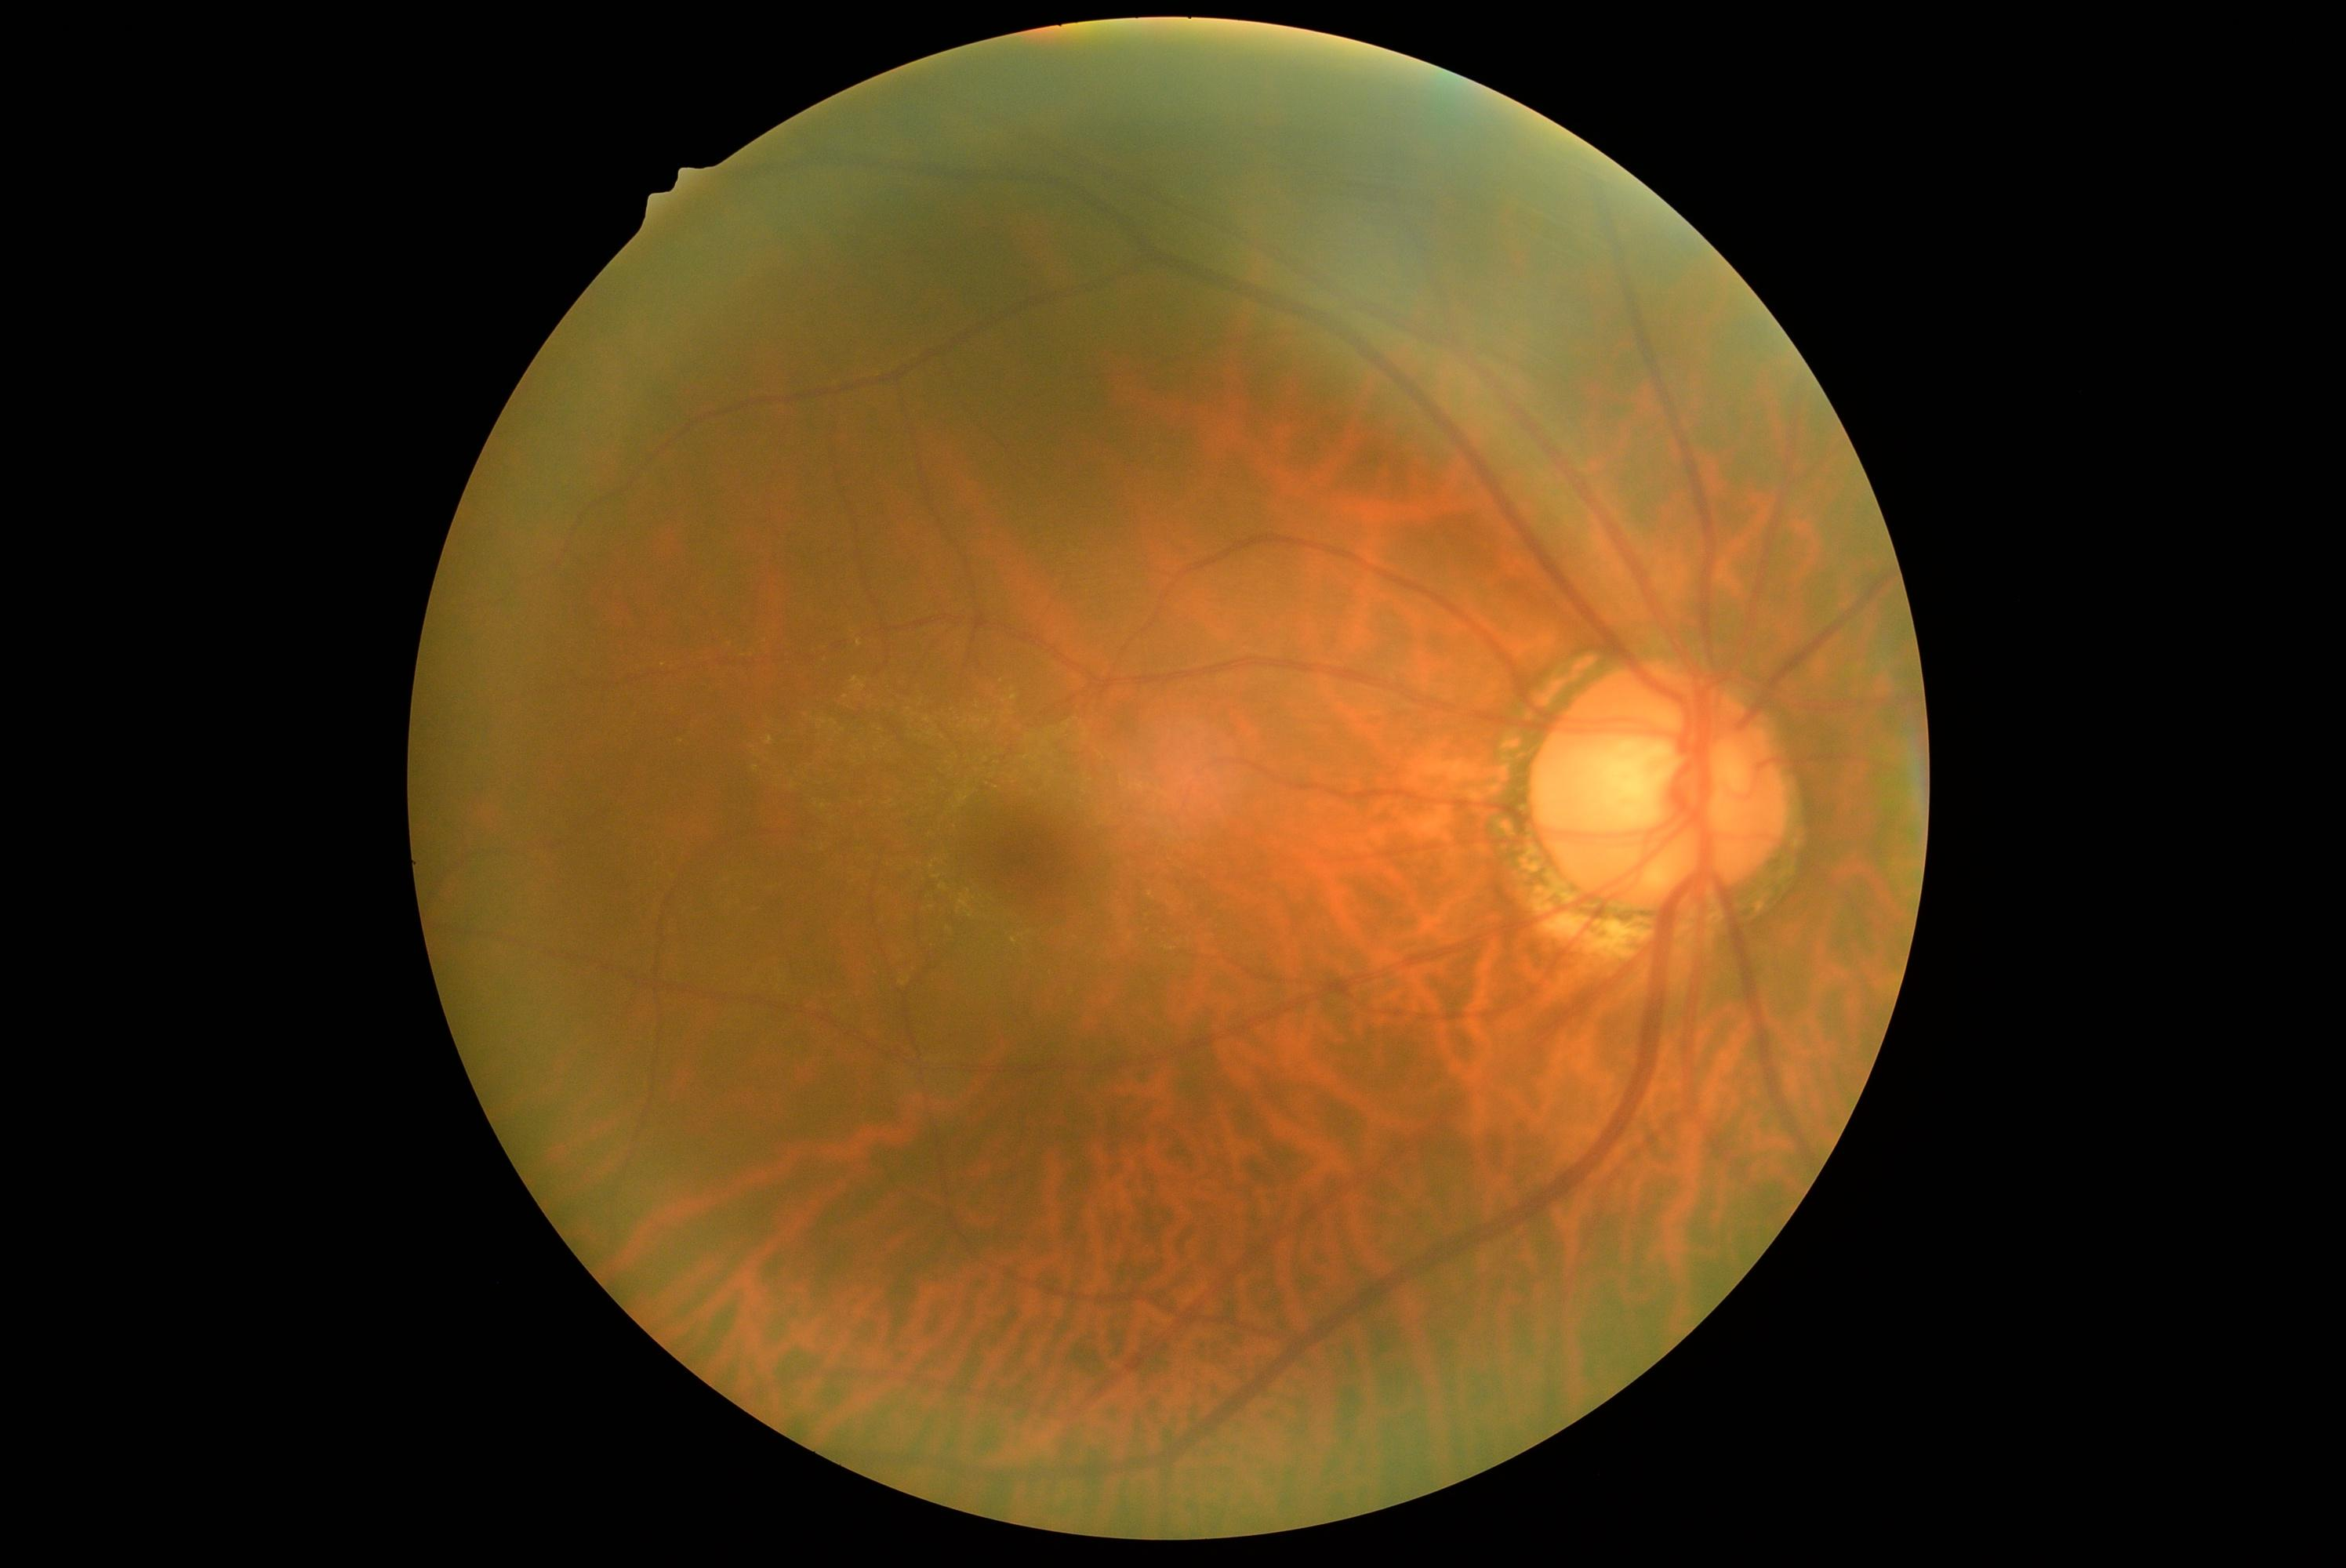Fovea: (943, 782, 1102, 931)
